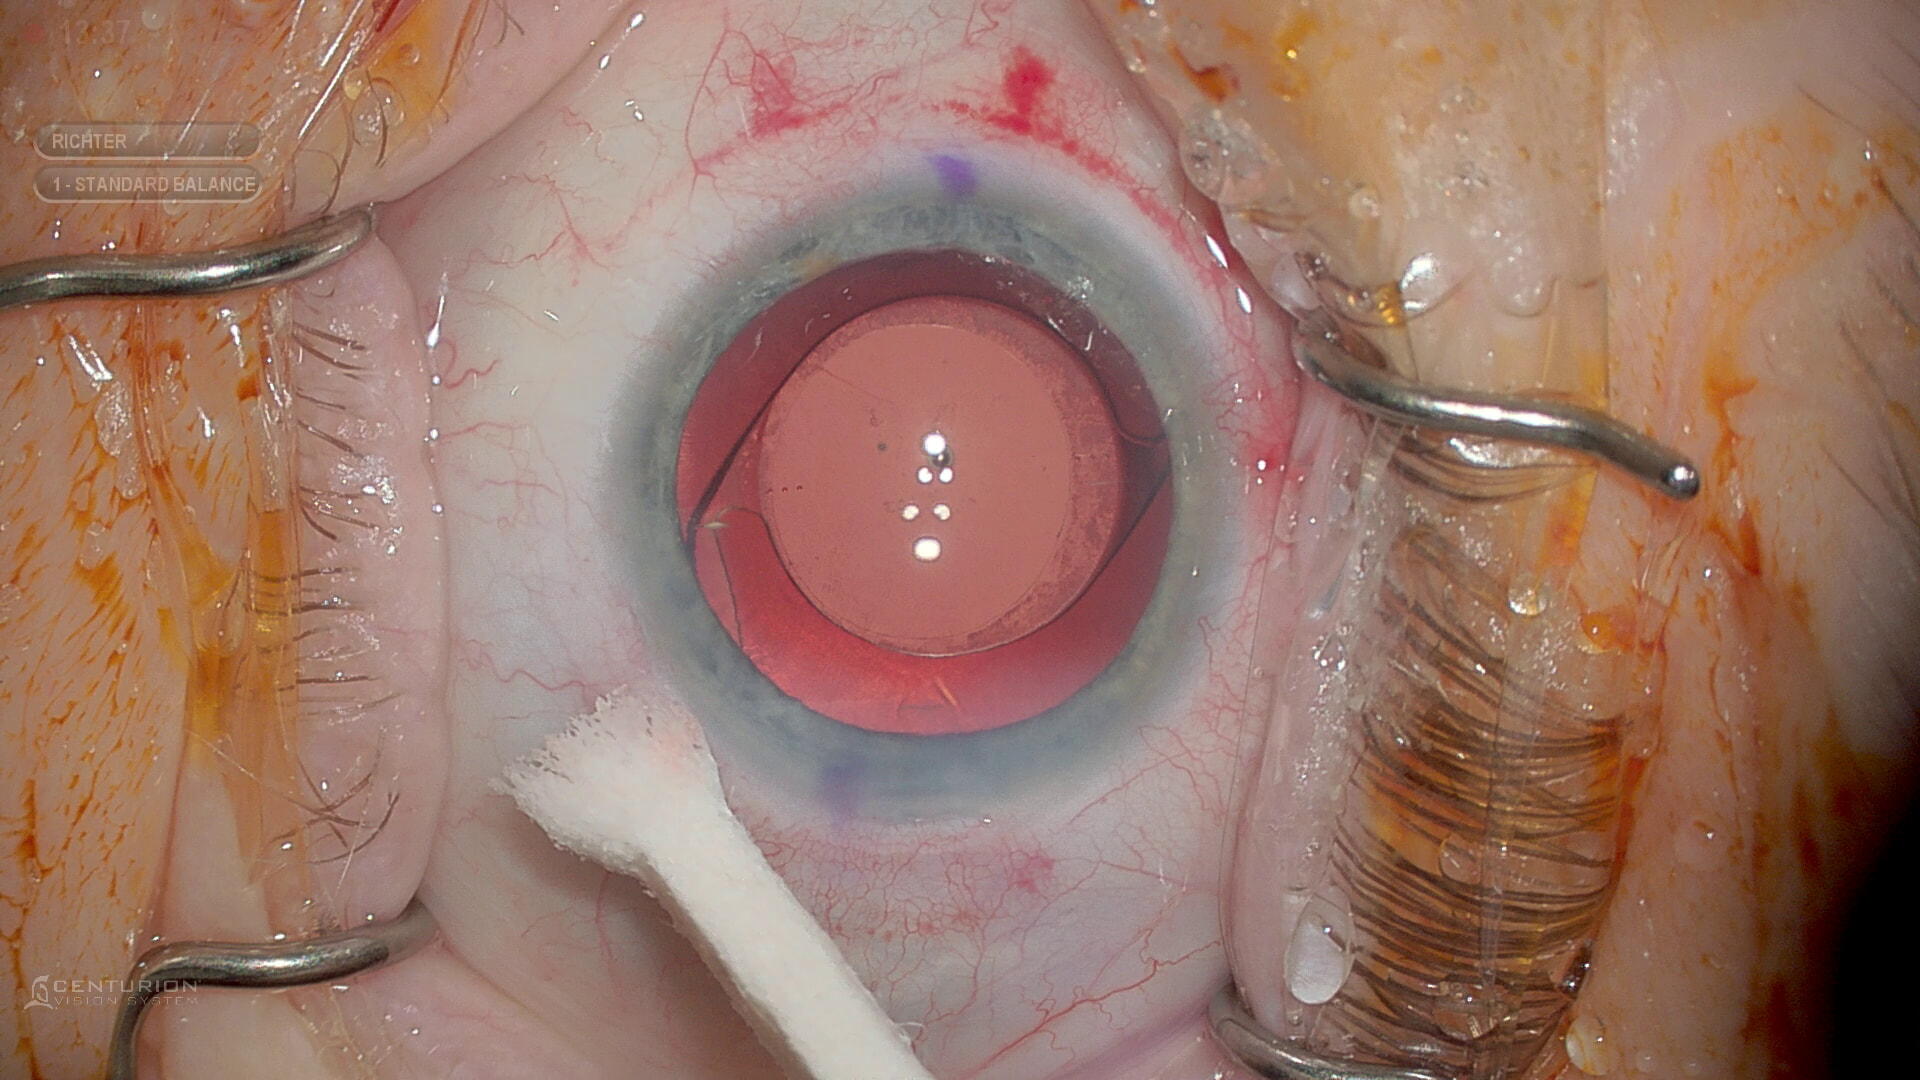iris: (632, 189, 1232, 802)
pupil: (672, 248, 1183, 739)
